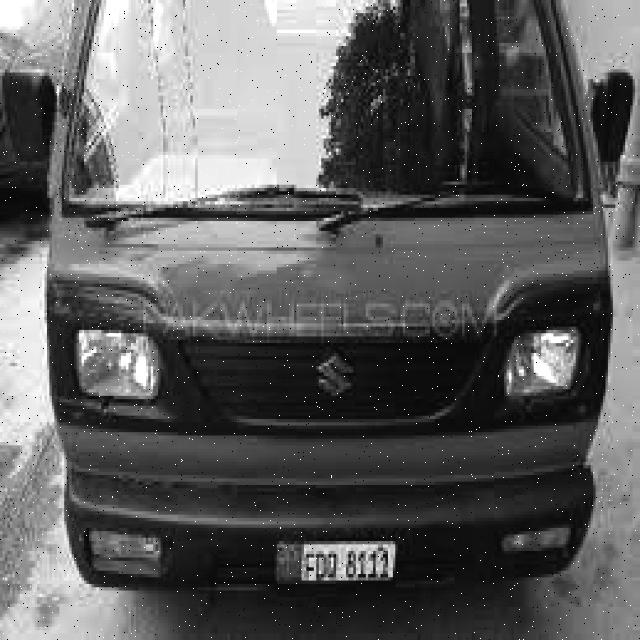Van: (44, 0, 640, 594)
